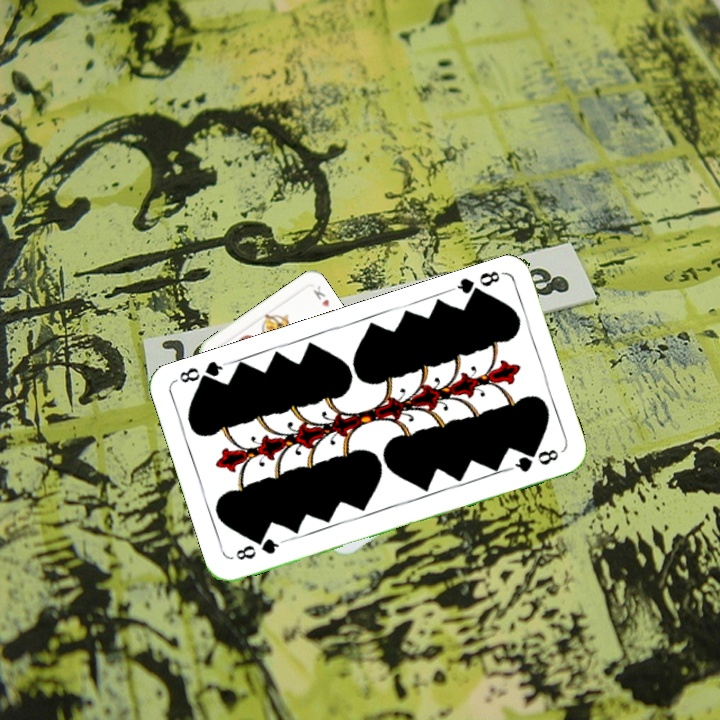G8: (447, 266, 505, 302), (231, 534, 287, 563)
